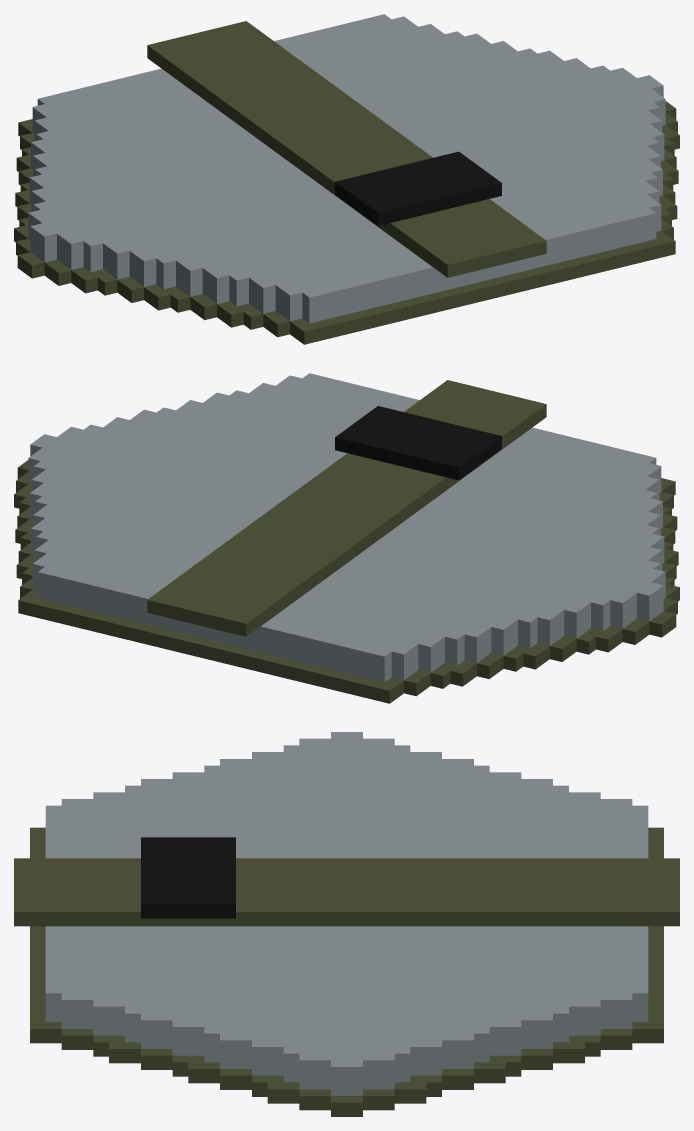
Rendered from lc_esbi_plate.glb.
The picture shows the model from 3 angles, top to bottom: view 1: azimuth 30°, elevation 25°; view 2: azimuth 150°, elevation 25°; view 3: azimuth 270°, elevation 25°; orthographic projection. The views are drawn at different scales.
Visible parts, largest first — view 1: lc_esbi_plate:compound; view 2: lc_esbi_plate:compound; view 3: lc_esbi_plate:compound.
Boxes of the visible parts, bbox=[...] form: lc_esbi_plate:compound: bbox=[14, 14, 679, 344]; lc_esbi_plate:compound: bbox=[14, 373, 679, 703]; lc_esbi_plate:compound: bbox=[14, 732, 679, 1116].
Bounding box in the file's own units: 0.208 × 0.02 × 0.168.
